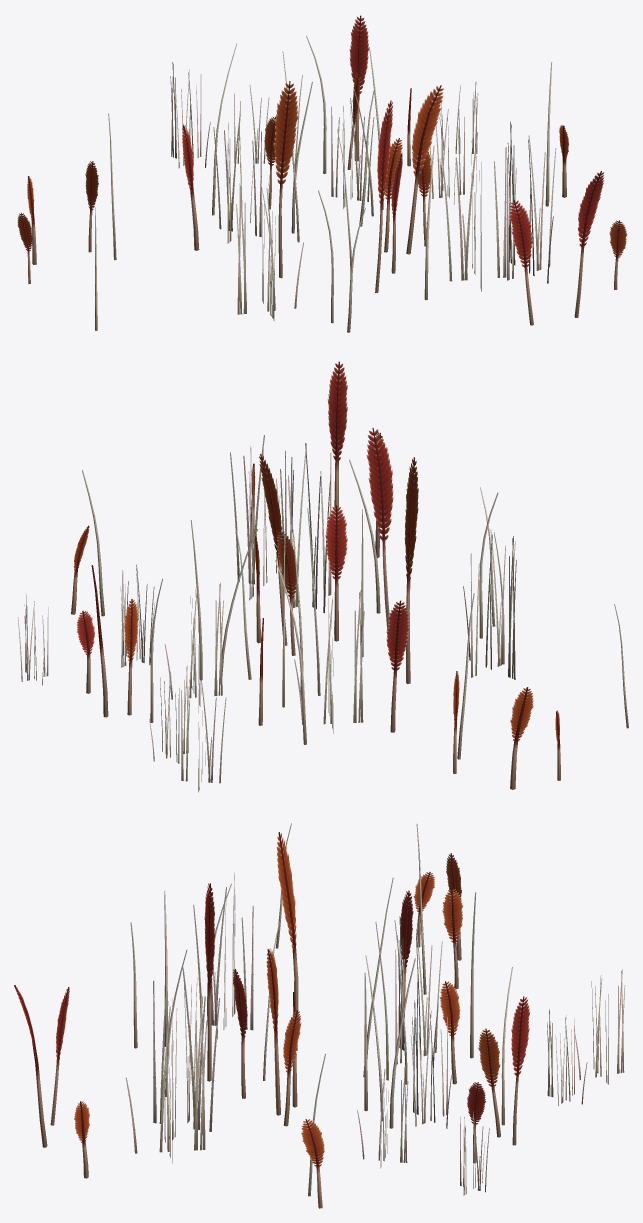
Rendered from SM_SeaPen_B.fbx.
3 views of the same model, one above another, from view 1: azimuth 30°, elevation 25°; view 2: azimuth 150°, elevation 25°; view 3: azimuth 270°, elevation 25° (orthographic). The views are drawn at different scales.
Visible parts, largest first — view 1: MSH_SeaPen_B_LOD0; view 2: MSH_SeaPen_B_LOD0; view 3: MSH_SeaPen_B_LOD0.
Boxes of the visible parts, x1,y1,x2,y2 form: MSH_SeaPen_B_LOD0: (17, 15, 627, 332); MSH_SeaPen_B_LOD0: (17, 361, 628, 792); MSH_SeaPen_B_LOD0: (14, 823, 625, 1208).
Size of what is drawn, in the model's own units: 1.33 by 0.5154 by 1.3.
